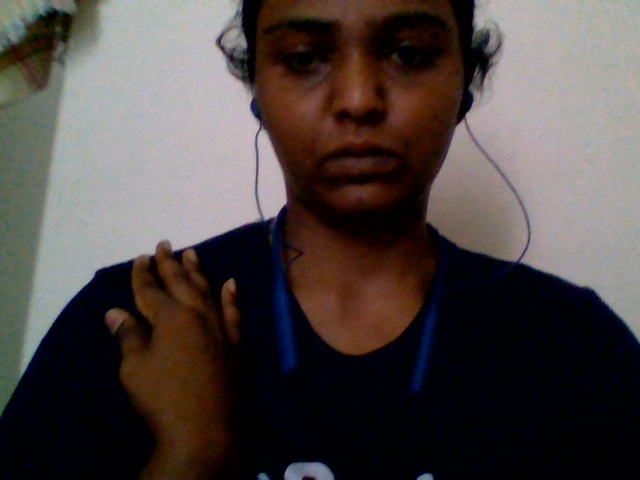Please: (79, 229, 285, 453)
